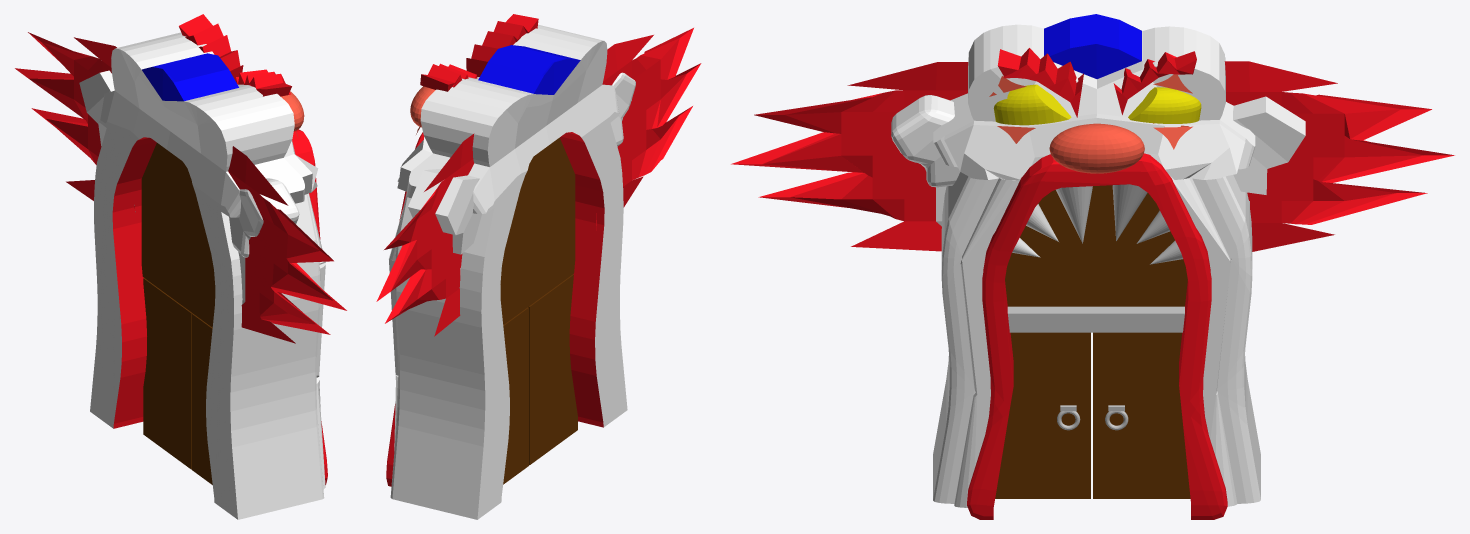
The model's file is clown_door.fbx.
The picture shows the model from 3 angles, left to right: view 1: azimuth 30°, elevation 25°; view 2: azimuth 150°, elevation 25°; view 3: azimuth 270°, elevation 25°; orthographic projection. The views are drawn at different scales.
Visible parts, largest first — view 1: Cone.004, Torus.001; view 2: Cone.004, Torus.001; view 3: Cone.004, Torus.001.
Boxes of the visible parts, bbox=[...] form: Cone.004: bbox=[15, 14, 346, 519]; Torus.001: bbox=[141, 143, 215, 484]; Cone.004: bbox=[376, 14, 701, 519]; Torus.001: bbox=[500, 137, 577, 484]; Cone.004: bbox=[731, 14, 1454, 519]; Torus.001: bbox=[995, 185, 1190, 498].
Size of the model in its own units: 689 by 1983 by 2895.
